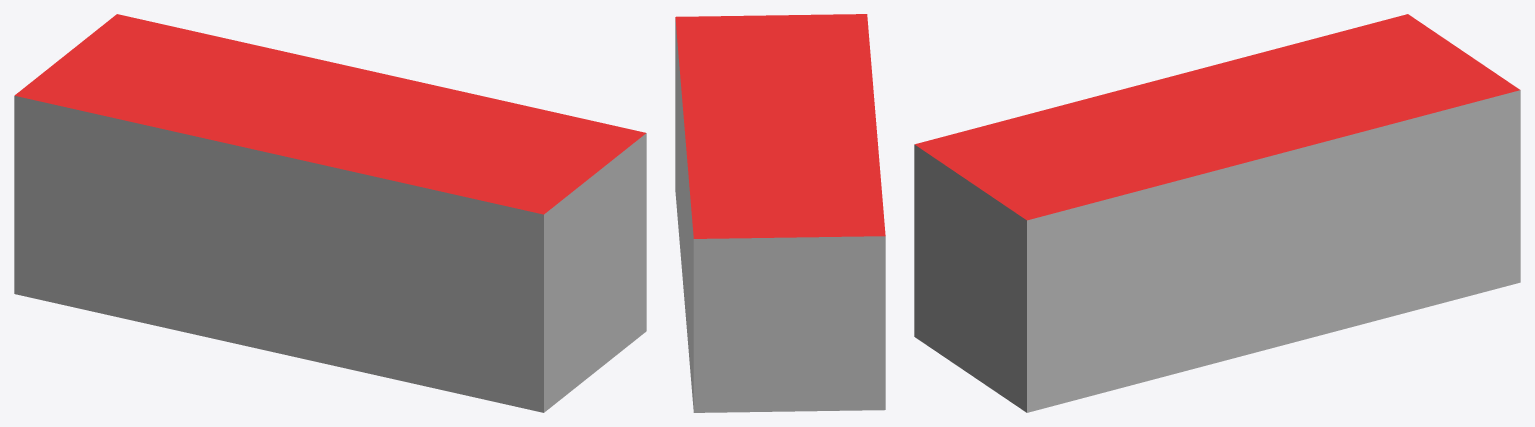
The picture shows the model from 3 angles, left to right: view 1: azimuth 30°, elevation 25°; view 2: azimuth 150°, elevation 25°; view 3: azimuth 270°, elevation 25°; orthographic projection. The views are drawn at different scales.
Size of the model in its own units: 29.91 by 37.1 by 13.
